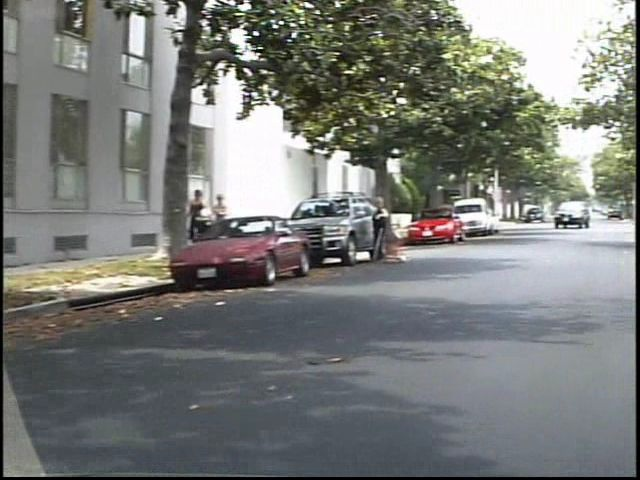person: (381, 193, 412, 270), (197, 184, 226, 253), (222, 189, 246, 250)
